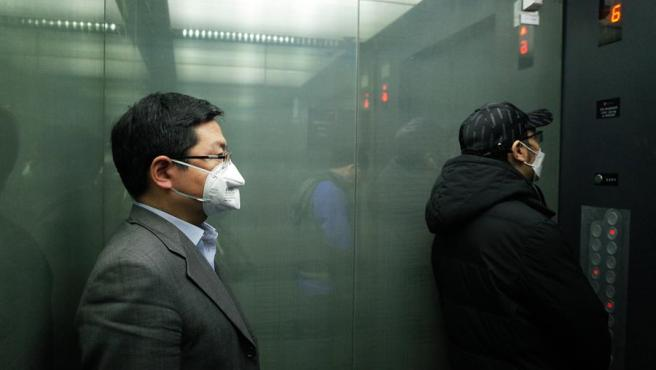with_mask: (152, 110, 257, 237), (502, 119, 553, 186)
